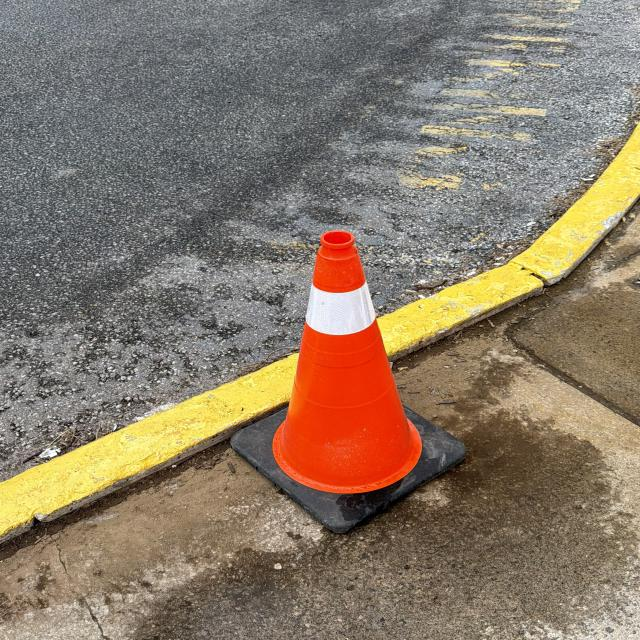Traffic Cone: (226, 228, 472, 536)
